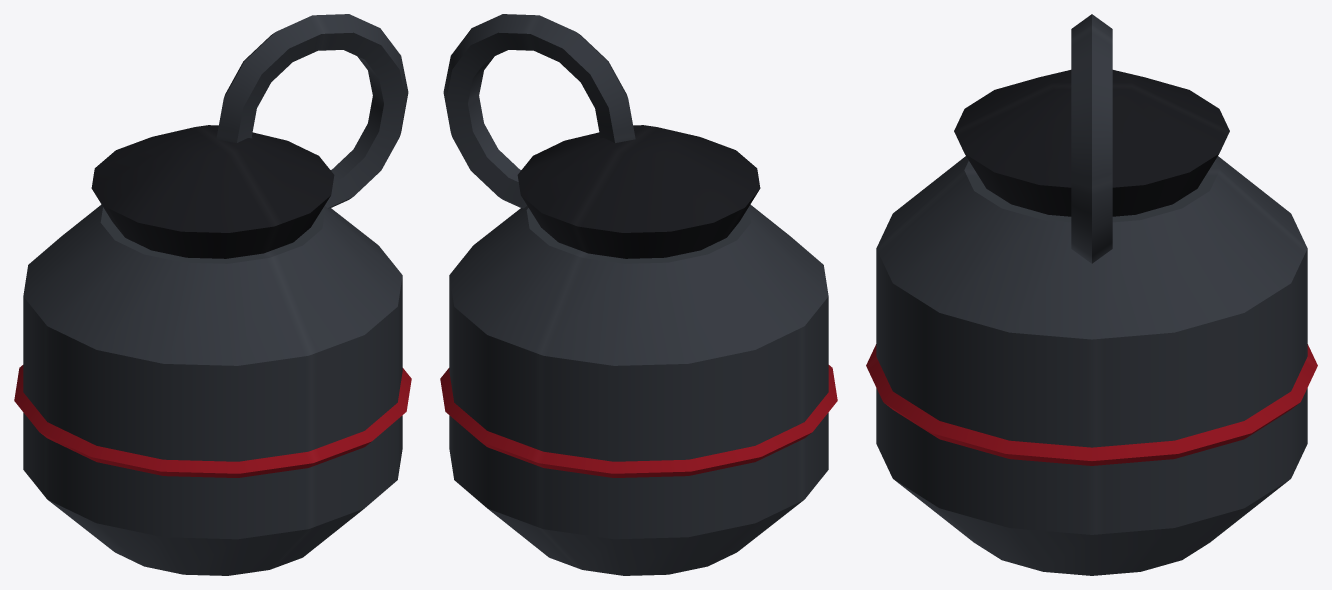
The model's file is gear_smoke.glb.
3 renders of one model, left to right at view 1: azimuth 30°, elevation 25°; view 2: azimuth 150°, elevation 25°; view 3: azimuth 270°, elevation 25°, orthographic. The views are drawn at different scales.
Visible parts, largest first — view 1: Pellet_Body, Pellet_Vents, Pin_Ring, Pellet_Band; view 2: Pellet_Body, Pellet_Vents, Pin_Ring, Pellet_Band; view 3: Pellet_Body, Pellet_Vents, Pin_Ring, Pellet_Band.
Boxes of the visible parts, left/top/right/bottom form: Pellet_Body: left=23, top=204, right=402, bottom=575; Pellet_Vents: left=91, top=125, right=334, bottom=258; Pin_Ring: left=216, top=14, right=408, bottom=208; Pellet_Band: left=14, top=365, right=411, bottom=477; Pellet_Body: left=449, top=204, right=828, bottom=575; Pellet_Vents: left=517, top=125, right=760, bottom=258; Pin_Ring: left=443, top=14, right=635, bottom=208; Pellet_Band: left=440, top=365, right=837, bottom=477; Pellet_Body: left=876, top=156, right=1307, bottom=575; Pellet_Vents: left=954, top=70, right=1229, bottom=216; Pin_Ring: left=1071, top=14, right=1112, bottom=263; Pellet_Band: left=866, top=344, right=1317, bottom=465.
Size of the model in its own units: 0.0557 by 0.0705 by 0.0524.
3 materials, 3 textured.
